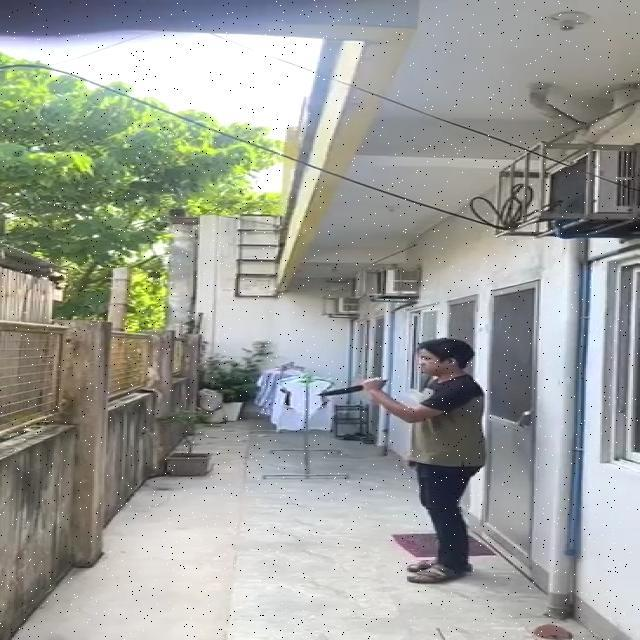knife: (318, 385, 364, 397)
non-violence: (317, 336, 484, 582)
